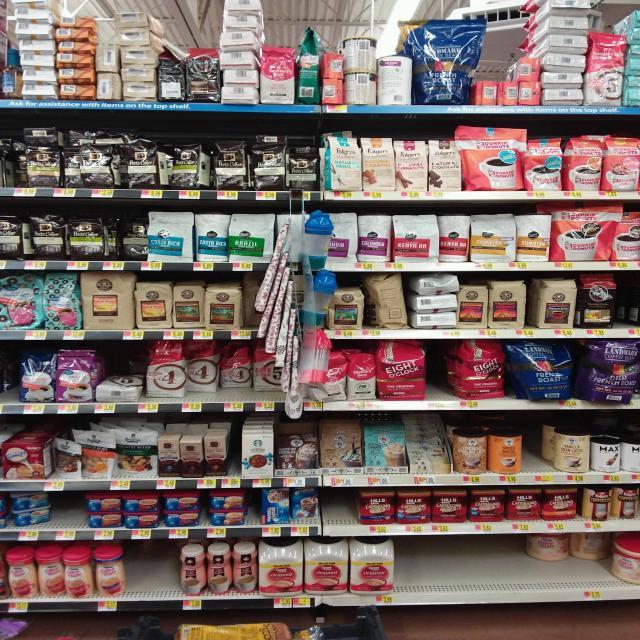void: (540, 564, 602, 610), (462, 539, 497, 608), (501, 539, 534, 606), (426, 540, 458, 604), (520, 413, 548, 486), (52, 493, 88, 544), (151, 542, 178, 609), (400, 538, 421, 608), (1, 215, 26, 272), (132, 541, 148, 611)
